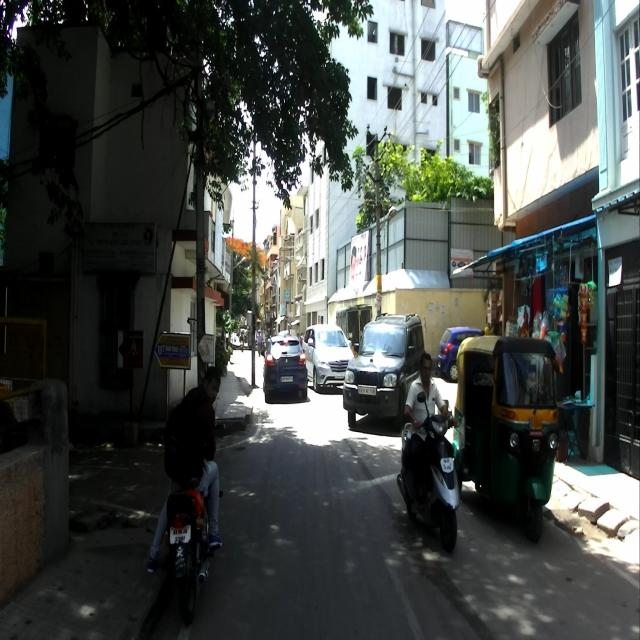autorickshaw: (450, 334, 561, 547)
car: (343, 312, 426, 429), (302, 322, 356, 394), (260, 329, 308, 402)
motorcycle: (163, 425, 224, 624)
scooter: (395, 392, 463, 548)
